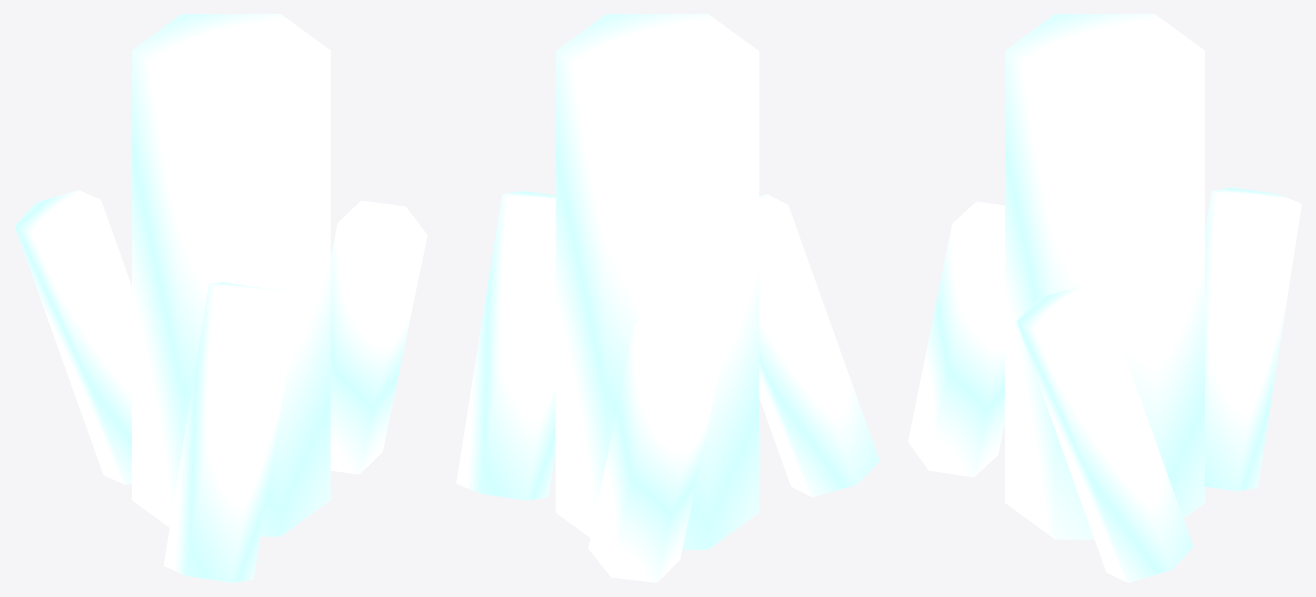
File: prop_ice_resonator_crystal.glb
The picture shows the model from 3 angles, left to right: view 1: azimuth 30°, elevation 25°; view 2: azimuth 150°, elevation 25°; view 3: azimuth 270°, elevation 25°; orthographic projection. The views are drawn at different scales.
Parts seen in each view (by area): view 1: Resonator_Main_Prism, Satellite_Prism_3, Satellite_Prism_2, Satellite_Prism_1; view 2: Resonator_Main_Prism, Satellite_Prism_2, Satellite_Prism_1, Satellite_Prism_3; view 3: Resonator_Main_Prism, Satellite_Prism_1, Satellite_Prism_2, Satellite_Prism_3.
Part boxes in pixels (x1,y1,x2,y2): Resonator_Main_Prism: (132, 14, 330, 536); Satellite_Prism_3: (163, 282, 298, 582); Satellite_Prism_2: (14, 190, 131, 485); Satellite_Prism_1: (330, 200, 427, 474); Resonator_Main_Prism: (555, 14, 759, 549); Satellite_Prism_2: (588, 302, 726, 582); Satellite_Prism_1: (456, 191, 555, 500); Satellite_Prism_3: (759, 194, 879, 497); Resonator_Main_Prism: (1005, 14, 1204, 539); Satellite_Prism_1: (1016, 285, 1193, 582); Satellite_Prism_2: (1203, 187, 1301, 491); Satellite_Prism_3: (908, 201, 1006, 477).
Bounding box in the file's own units: 4.1 × 6.08 × 4.73.
